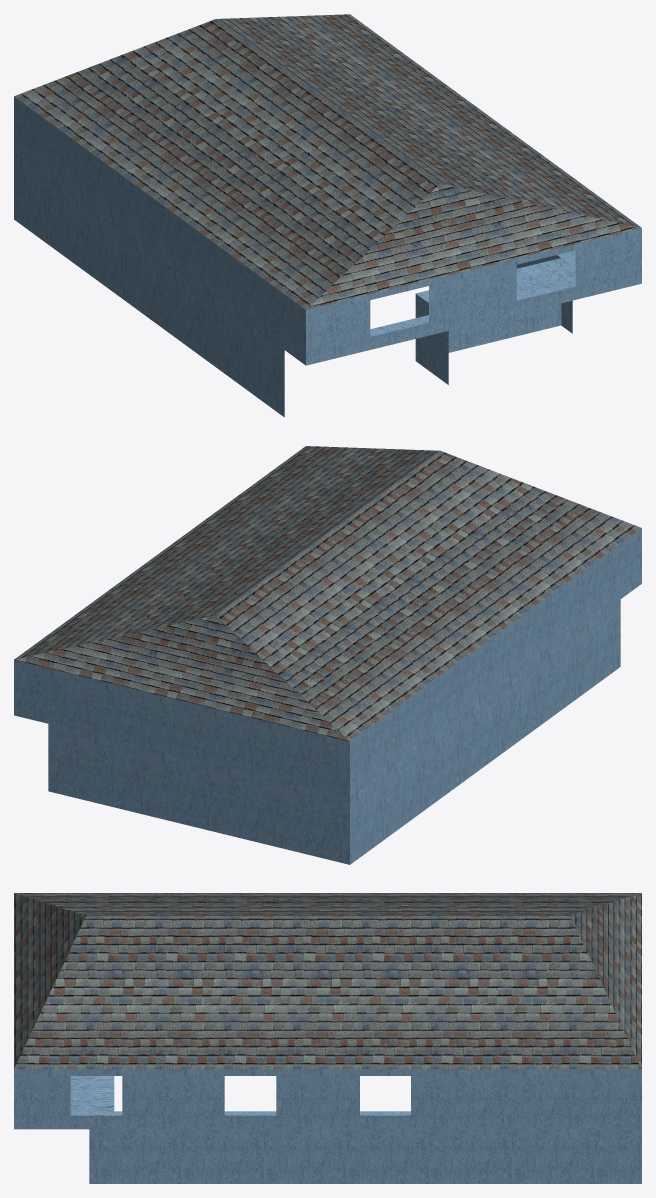
The model's file is CASADECJ_inside.obj.
3 renders of one model, top to bottom at view 1: azimuth 30°, elevation 25°; view 2: azimuth 150°, elevation 25°; view 3: azimuth 270°, elevation 25°, orthographic. The views are drawn at different scales.
Bounding box in the file's own units: 5.2 × 2.72 × 7.82.
Materials: 2 (2 with a texture image).
